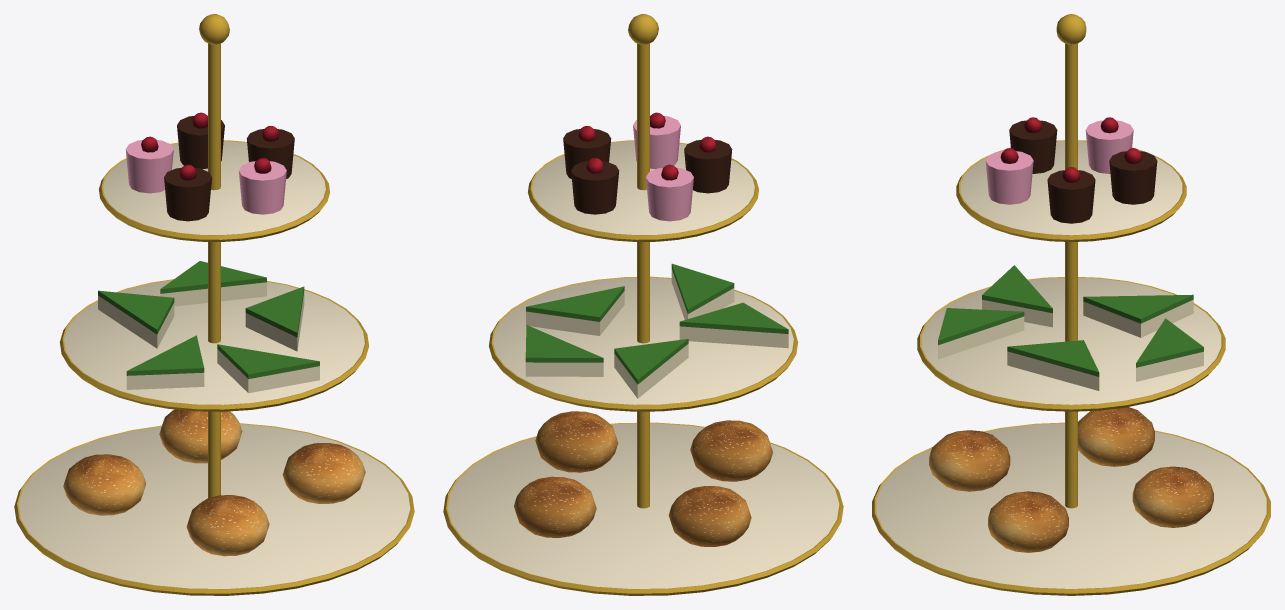
File: tray_cake_stand_afternoon_tea.glb
The picture shows the model from 3 angles, left to right: view 1: azimuth 30°, elevation 25°; view 2: azimuth 150°, elevation 25°; view 3: azimuth 270°, elevation 25°; orthographic projection.
Parts seen in each view (by area): view 1: tray_cake_stand_afternoon_tea; view 2: tray_cake_stand_afternoon_tea; view 3: tray_cake_stand_afternoon_tea.
Boxes of the visible parts, box(x1,y1,x2,y2) form: tray_cake_stand_afternoon_tea: box(14, 14, 414, 595); tray_cake_stand_afternoon_tea: box(443, 14, 843, 595); tray_cake_stand_afternoon_tea: box(872, 14, 1270, 595).
Size of the model in its own units: 0.308 by 0.425 by 0.3067.
Materials: 8 (2 with a texture image).
